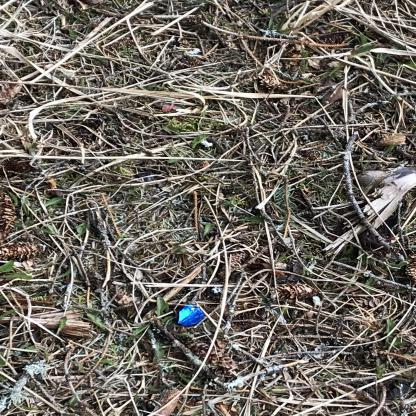Other plastic: (177, 304, 204, 327)
